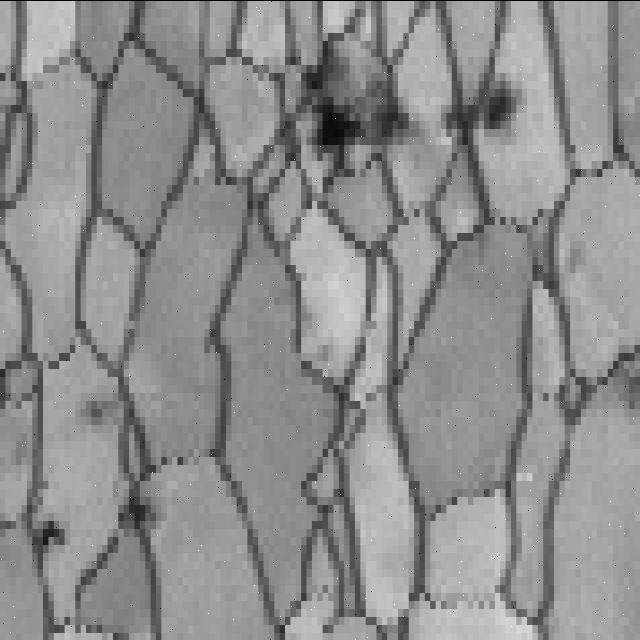good_void: (280, 6, 411, 185), (434, 63, 529, 154), (32, 506, 73, 565), (119, 474, 154, 541), (77, 377, 110, 446)
